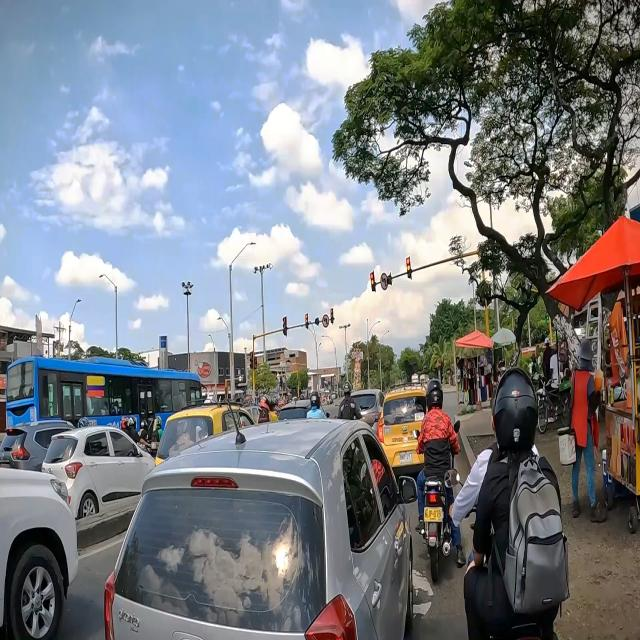license_plate: (424, 507, 442, 521), (398, 450, 413, 463)
